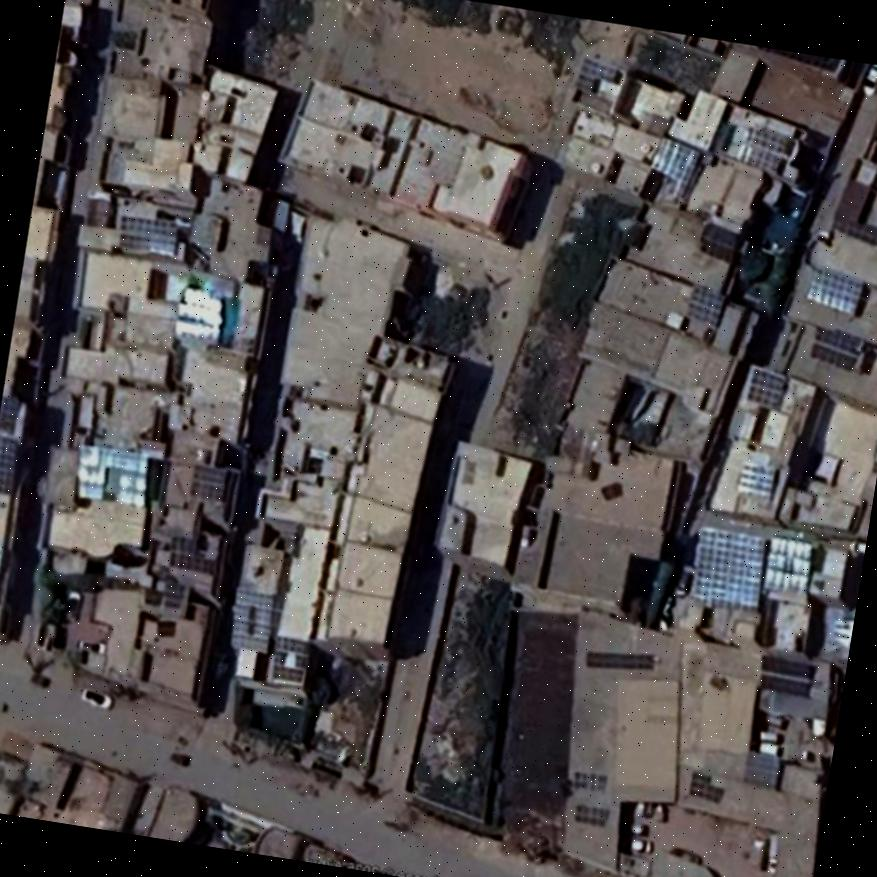Solarpanel: (692, 528, 766, 606), (76, 445, 145, 505), (173, 287, 221, 342), (807, 267, 863, 314), (736, 126, 791, 171), (119, 214, 177, 254), (649, 135, 698, 182), (812, 323, 861, 366), (232, 594, 270, 648), (760, 657, 811, 696), (685, 284, 725, 323), (749, 371, 787, 408), (738, 463, 777, 499), (189, 463, 223, 498), (741, 754, 778, 786), (586, 652, 651, 668), (688, 772, 722, 800), (0, 434, 14, 492), (0, 394, 17, 435), (575, 771, 606, 790), (577, 806, 607, 823), (601, 481, 622, 499)
